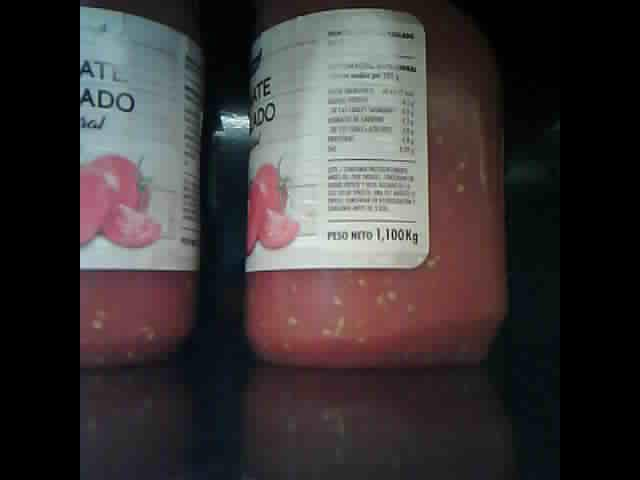tomate: (242, 5, 506, 368), (80, 4, 204, 370)
